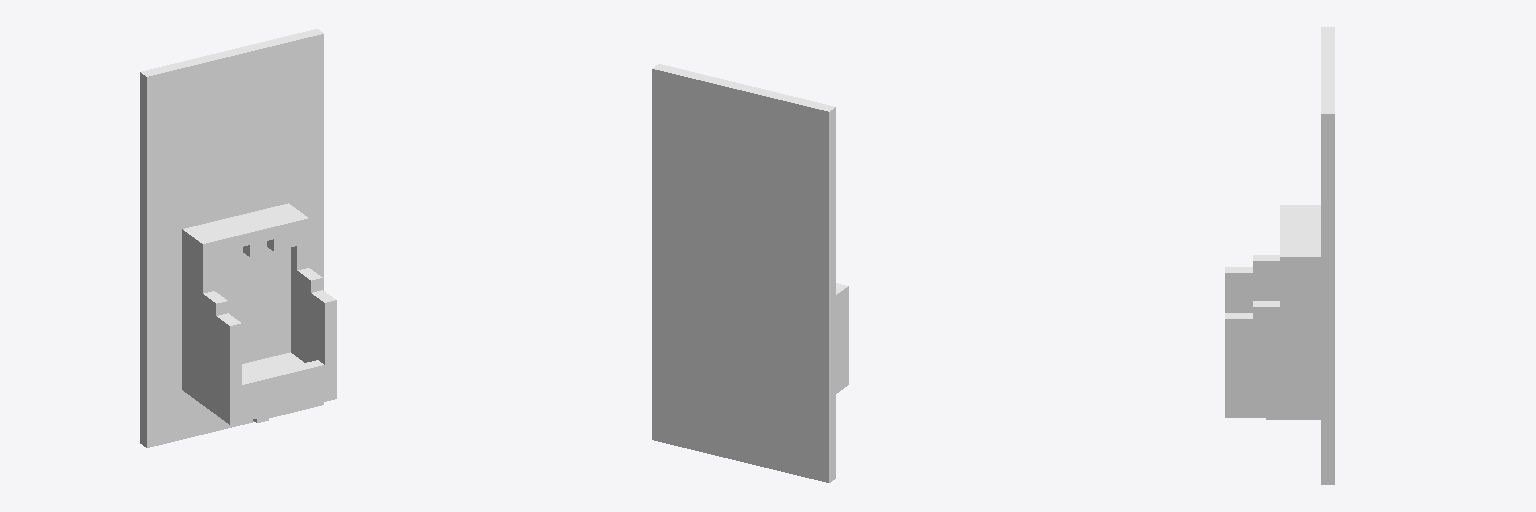
Rendered from Urinal.obj.
The picture shows the model from 3 angles: view 1: azimuth 30°, elevation 25°; view 2: azimuth 150°, elevation 25°; view 3: azimuth 270°, elevation 25°; orthographic projection.
Parts seen in each view (by area): view 1: object 1; view 2: object 1; view 3: object 1.
Boxes of the visible parts, x1=… form: object 1: x1=140, y1=29, x2=336, y2=447; object 1: x1=652, y1=64, x2=848, y2=482; object 1: x1=1225, y1=27, x2=1334, y2=484.
Size of the model in its own units: 1.5 by 3 by 0.8.